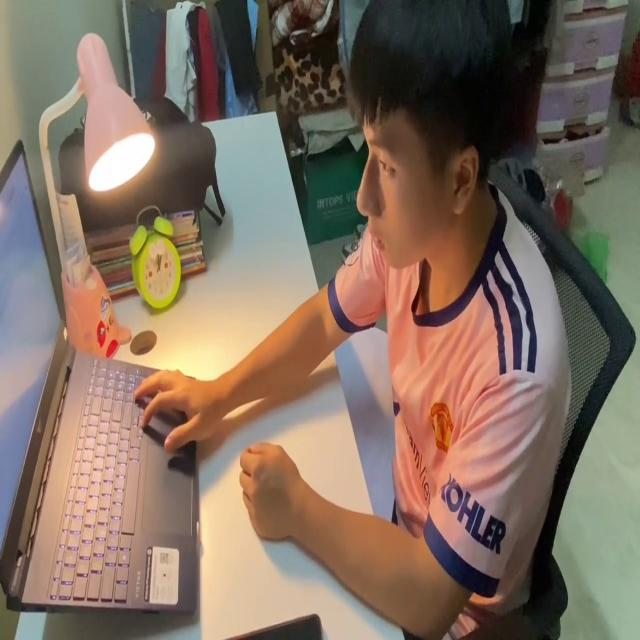book: (332, 310, 400, 528)
laptop: (0, 131, 201, 621)
phone: (218, 610, 326, 640)
student: (132, 0, 570, 632)
